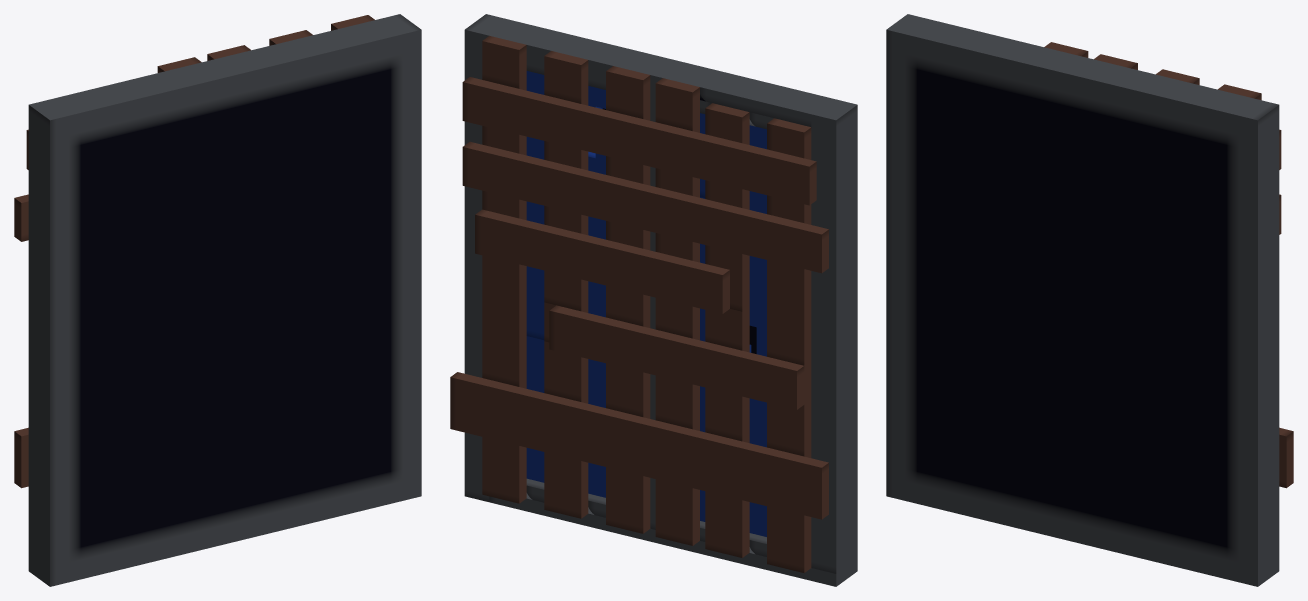
Rendered from okno2.dae.
3 renders of one model, left to right at view 1: azimuth 30°, elevation 25°; view 2: azimuth 150°, elevation 25°; view 3: azimuth 330°, elevation 25°, orthographic.
Parts seen in each view (by area): view 1: Content; view 2: Content; view 3: Content.
Boxes of the visible parts, <box> form: Content: <box>14,14,421,586</box>; Content: <box>450,14,857,586</box>; Content: <box>886,14,1293,586</box>.
Bounding box in the file's own units: 30 × 36 × 5.
Materials: 1 (1 with a texture image).
